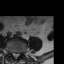CCS_normal: (15, 51, 17, 61)
LFS_severe_stenosis: (19, 50, 21, 56)
LLS_normal: (17, 51, 19, 59)
RFS_normal: (10, 49, 13, 56)
RLS_normal: (13, 51, 15, 59)
